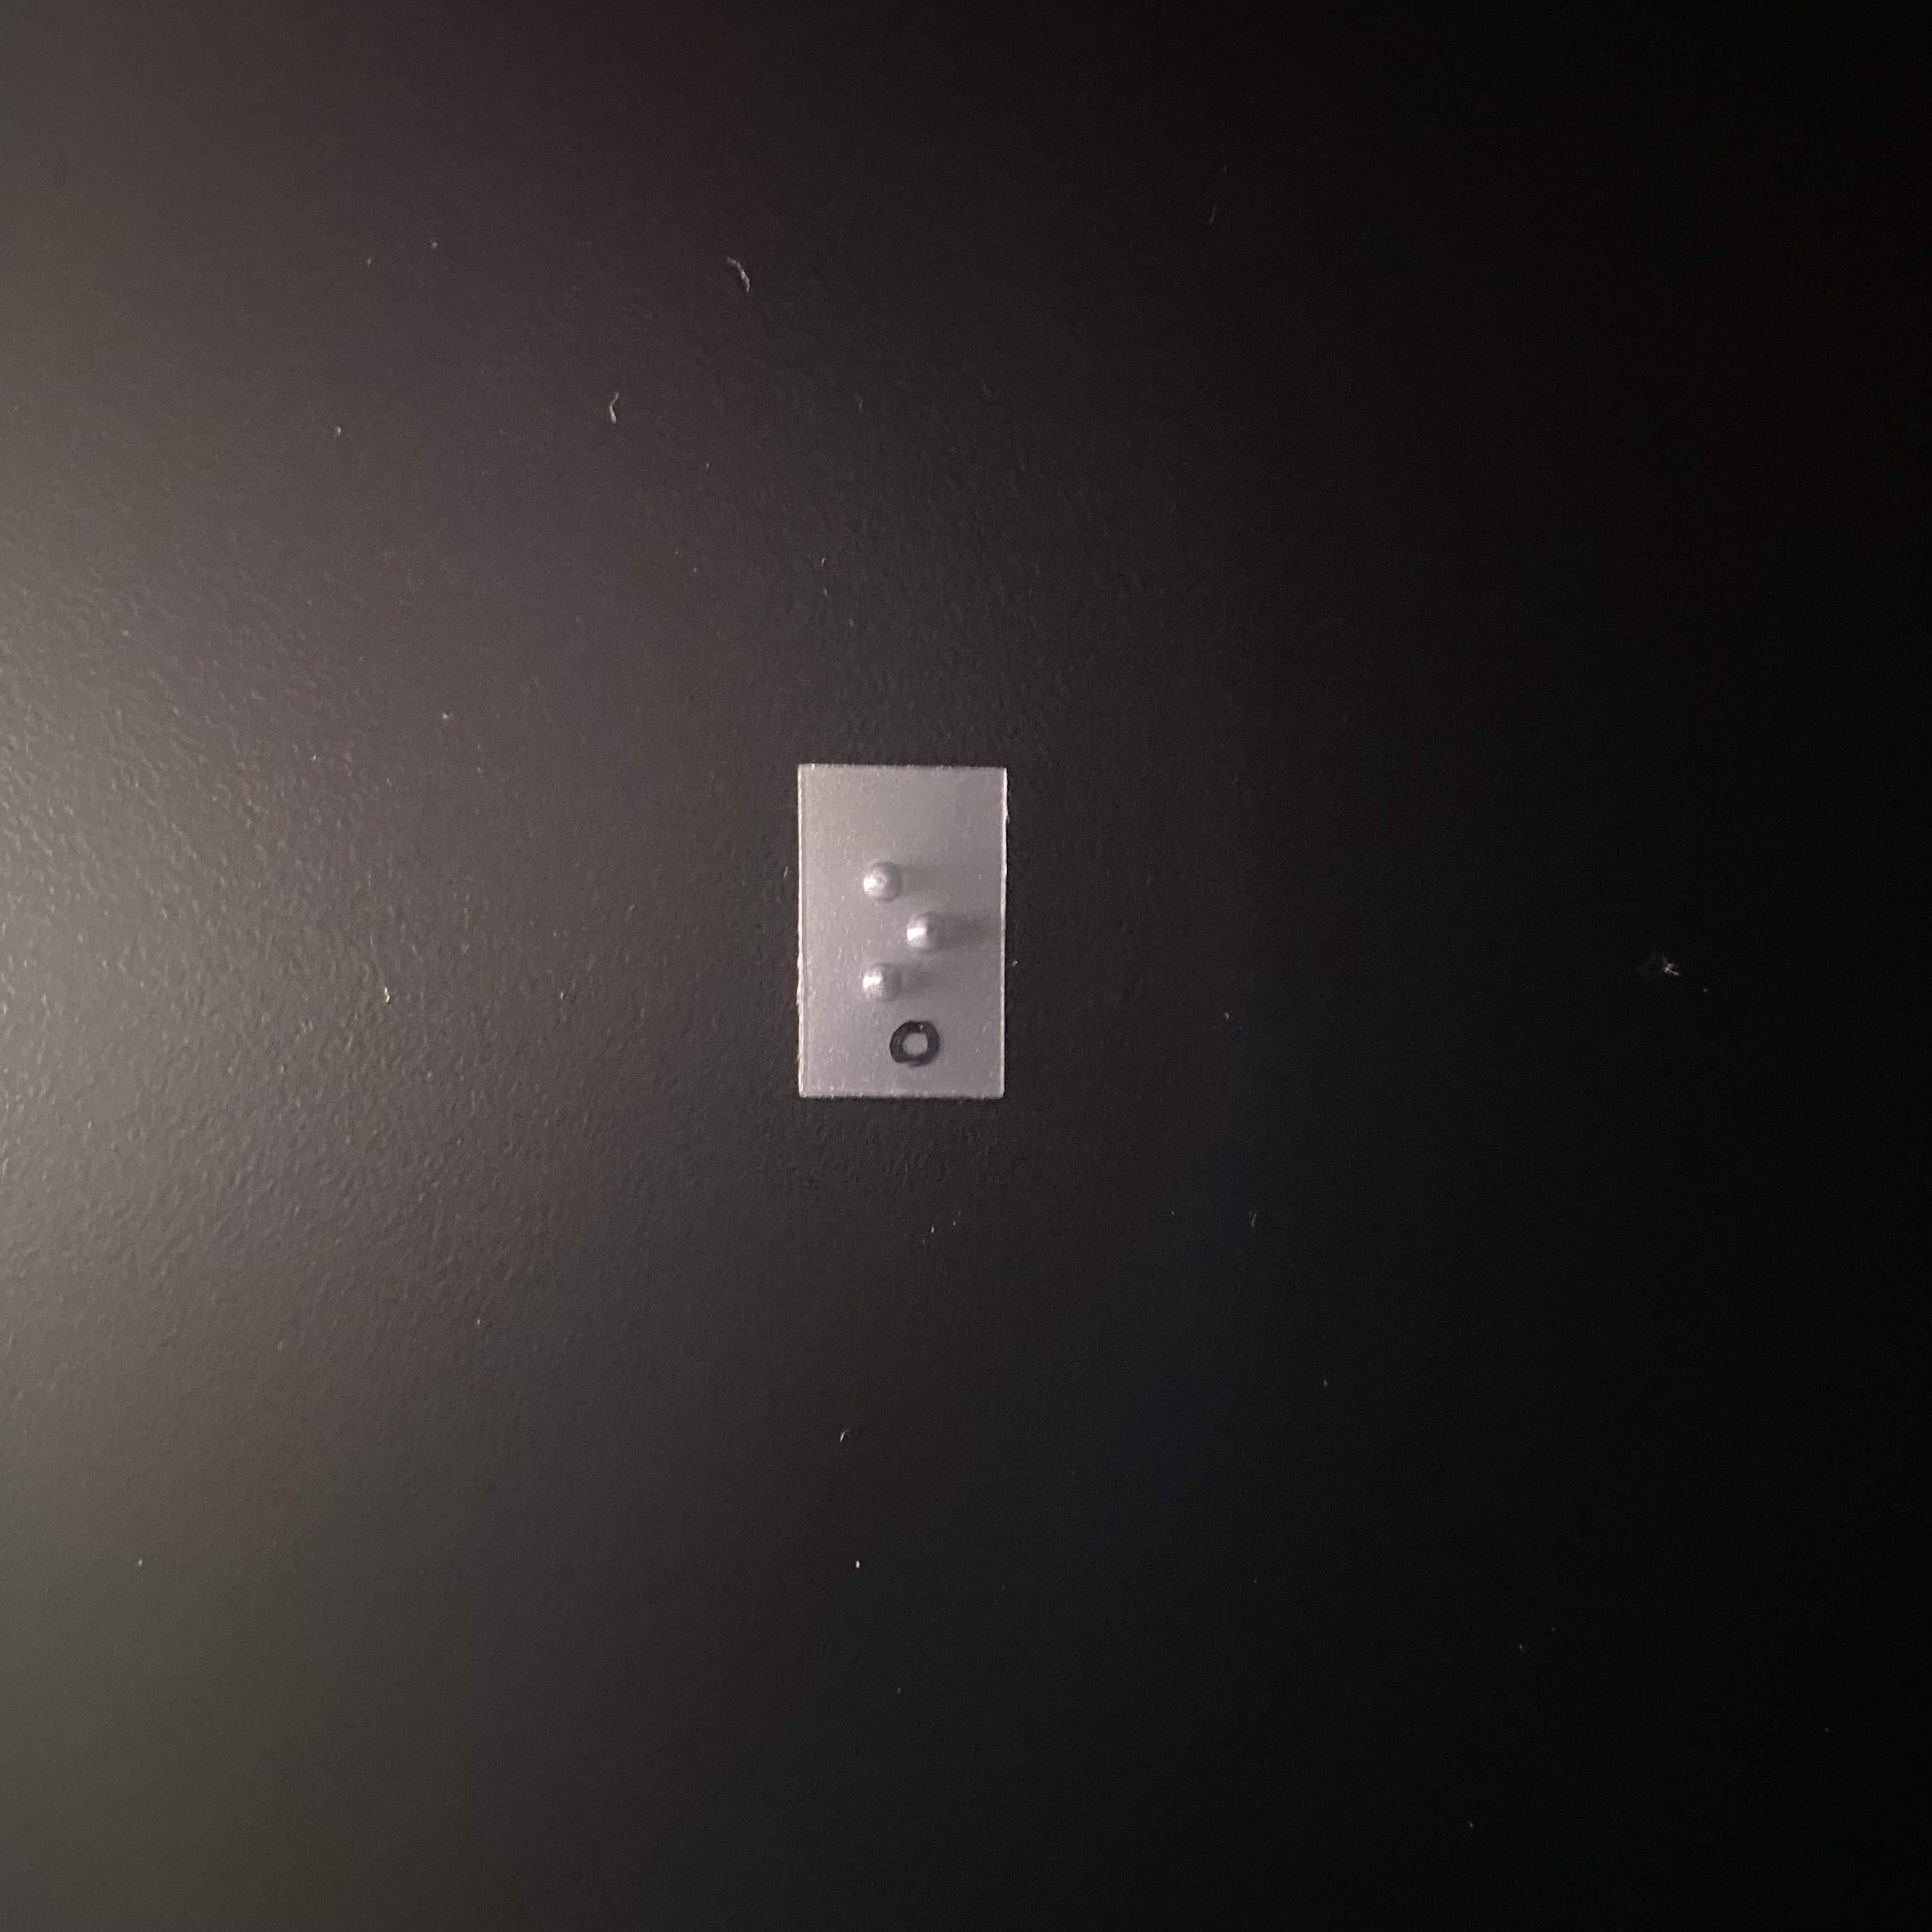o: (851, 846, 979, 1009)
